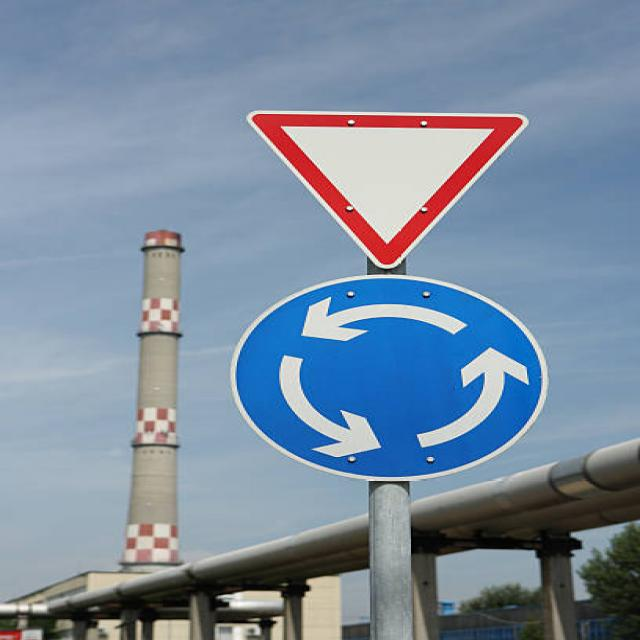give_way: (247, 100, 564, 272)
